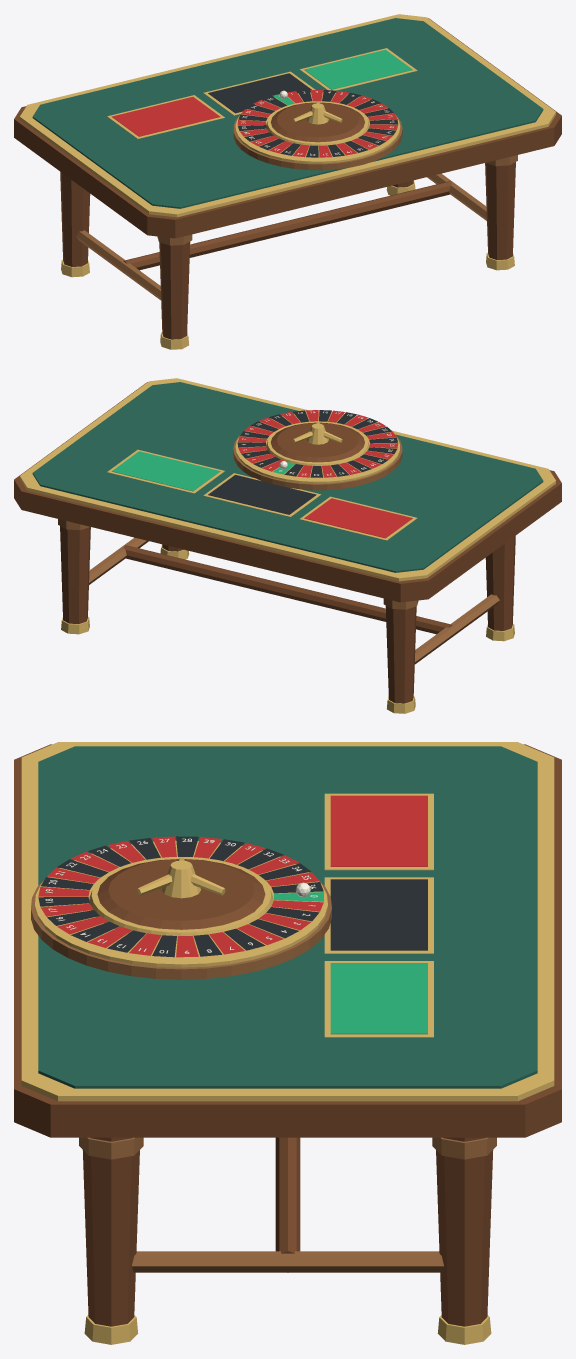
Rendered from RouletteTable.fbx.
3 views of the same model, one above another, from view 1: azimuth 30°, elevation 25°; view 2: azimuth 150°, elevation 25°; view 3: azimuth 270°, elevation 25° (orthographic). The views are drawn at different scales.
Parts seen in each view (by area): view 1: FeltPlayingSurface, WalnutTop, BrassTopBorder, LongBrace, CarvedLeg.003, CarvedLeg.001, WheelBowl, GreenBetFelt, RedBetFelt, CarvedLeg.002, WheelBrassBed, BlackBetFelt (+6 smaller); view 2: FeltPlayingSurface, WalnutTop, BrassTopBorder, LongBrace, CarvedLeg.002, CarvedLeg, WheelBowl, GreenBetFelt, RedBetFelt, BlackBetFelt, CarvedLeg.003, WheelBrassBed (+7 smaller); view 3: FeltPlayingSurface, WalnutTop, BrassTopBorder, CarvedLeg, CarvedLeg.001, WheelBowl, GreenBetFelt, RedBetFelt, BlackBetFelt, SideBrace, WheelBrassBed, WheelWoodHousing (+10 smaller).
Part boxes in pixels (x1,y1,x2,y2): FeltPlayingSurface: [32, 18, 543, 208]; WalnutTop: [14, 18, 561, 238]; BrassTopBorder: [20, 14, 555, 217]; LongBrace: [123, 181, 452, 270]; CarvedLeg.003: [159, 241, 190, 339]; CarvedLeg.001: [485, 162, 515, 259]; WheelBowl: [270, 102, 364, 142]; GreenBetFelt: [304, 49, 412, 89]; RedBetFelt: [112, 97, 220, 136]; CarvedLeg.002: [60, 172, 90, 266]; WheelBrassBed: [235, 92, 400, 163]; BlackBetFelt: [208, 73, 311, 113]; FeltPlayingSurface: [32, 382, 543, 572]; WalnutTop: [14, 382, 561, 602]; BrassTopBorder: [20, 378, 555, 581]; LongBrace: [123, 545, 452, 634]; CarvedLeg.002: [385, 605, 416, 703]; CarvedLeg: [60, 526, 90, 623]; WheelBowl: [270, 422, 364, 462]; GreenBetFelt: [112, 451, 220, 491]; RedBetFelt: [304, 498, 412, 538]; BlackBetFelt: [208, 475, 316, 514]; CarvedLeg.003: [485, 536, 515, 630]; WheelBrassBed: [235, 412, 399, 483]; FeltPlayingSurface: [38, 746, 537, 1088]; WalnutTop: [14, 744, 561, 1137]; BrassTopBorder: [21, 742, 554, 1101]; CarvedLeg: [436, 1137, 493, 1326]; CarvedLeg.001: [82, 1137, 139, 1326]; WheelBowl: [97, 859, 265, 929]; GreenBetFelt: [330, 963, 427, 1034]; RedBetFelt: [330, 795, 427, 866]; BlackBetFelt: [330, 879, 427, 950]; SideBrace: [132, 1251, 443, 1272]; WheelBrassBed: [35, 840, 327, 967]; WheelWoodHousing: [31, 876, 331, 979].
Size of the model in its own units: 2.8 by 1.18 by 1.8.
